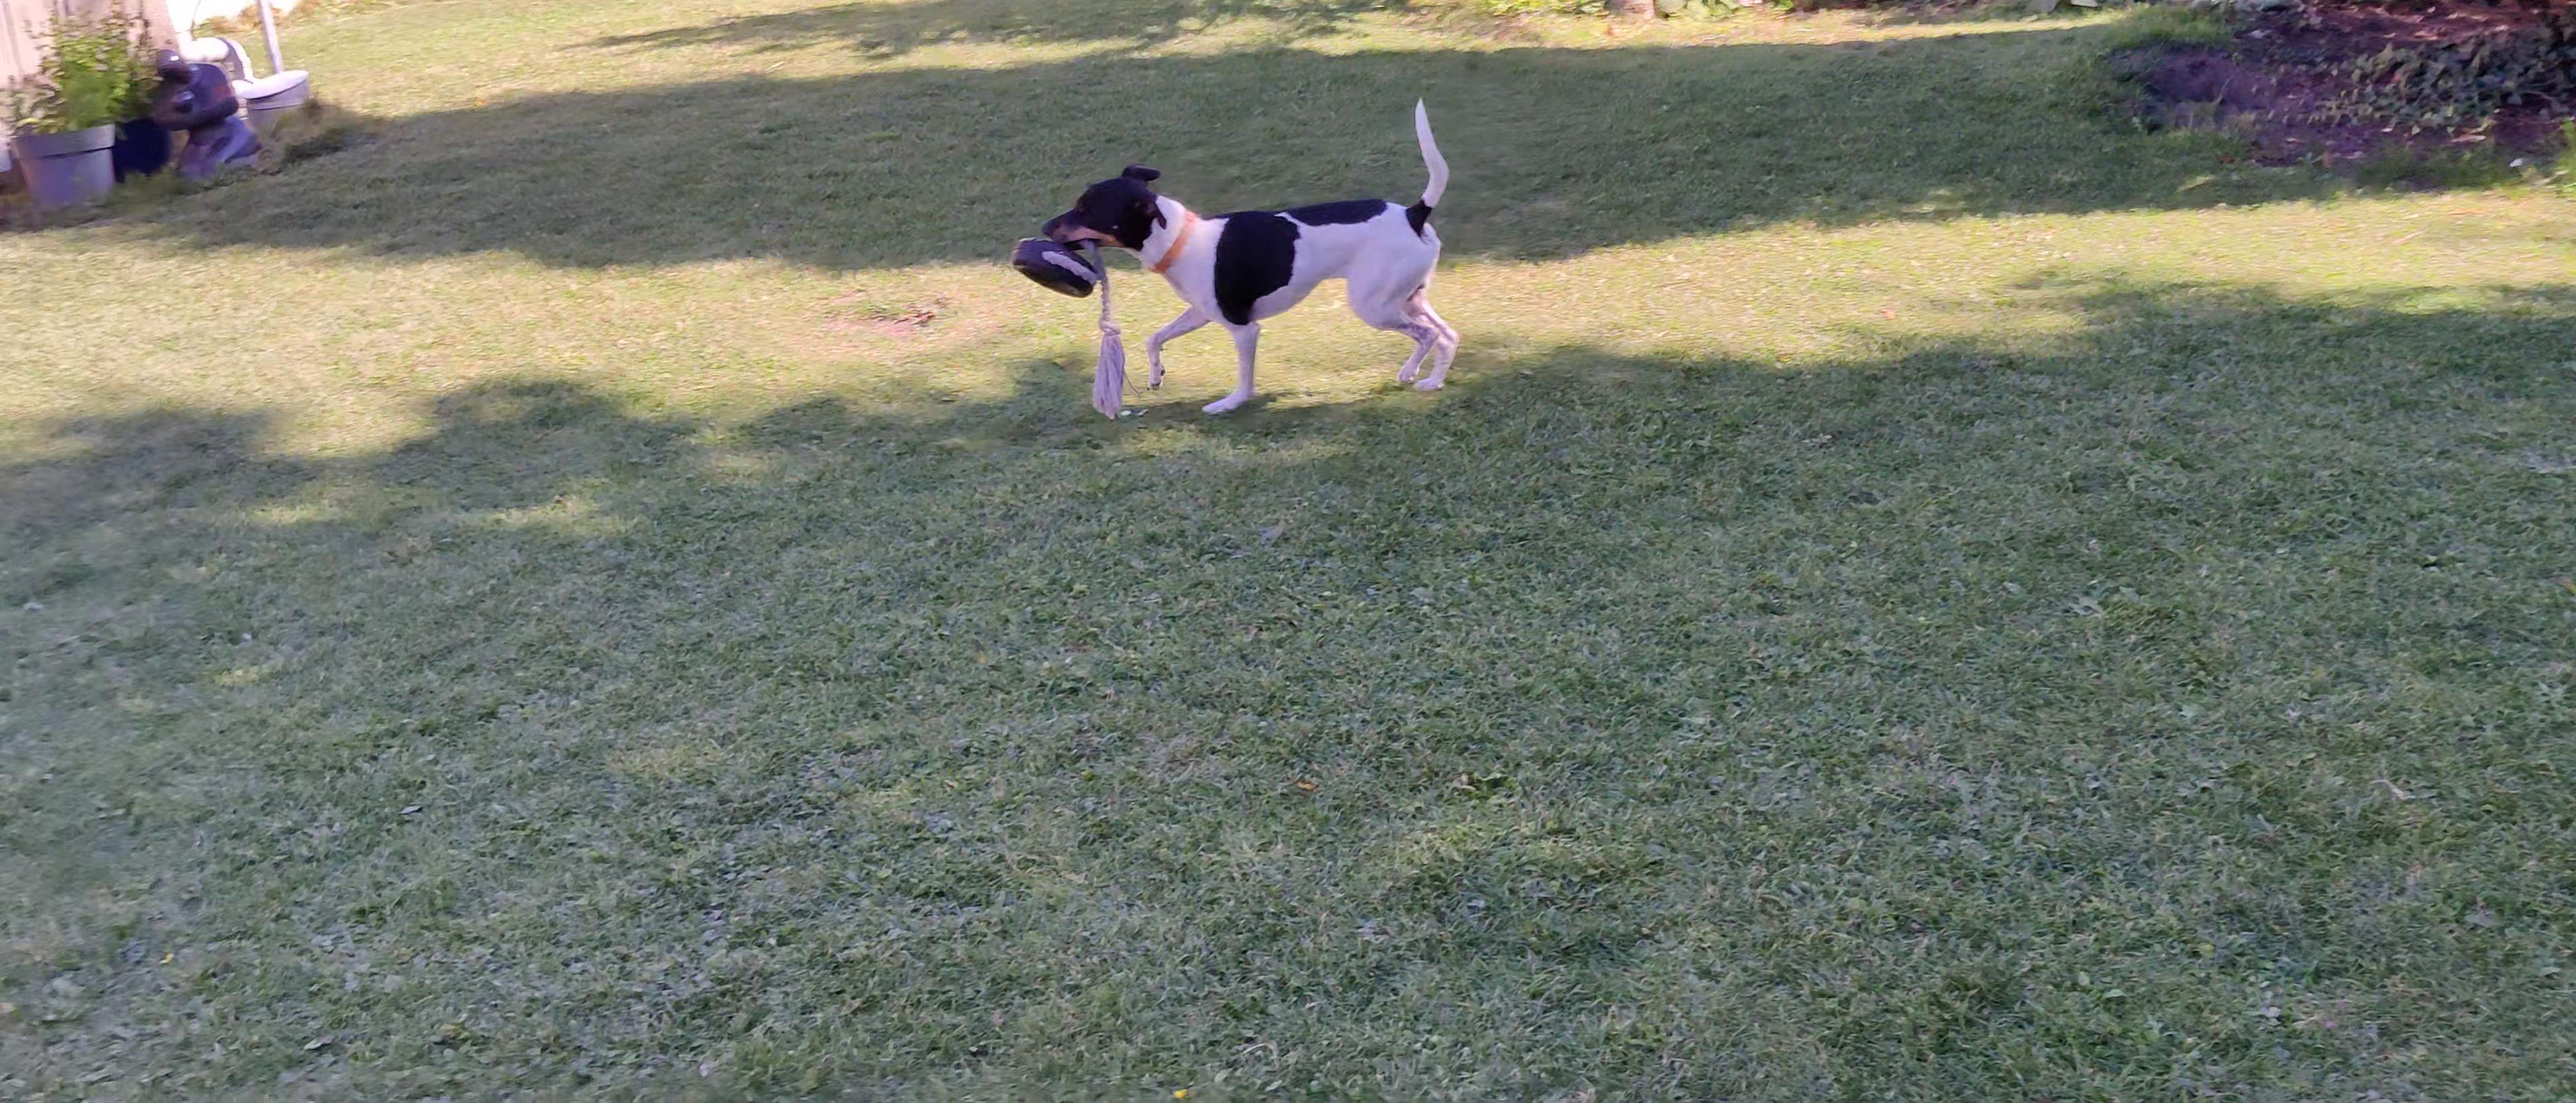Dog: (1022, 79, 1483, 432)
